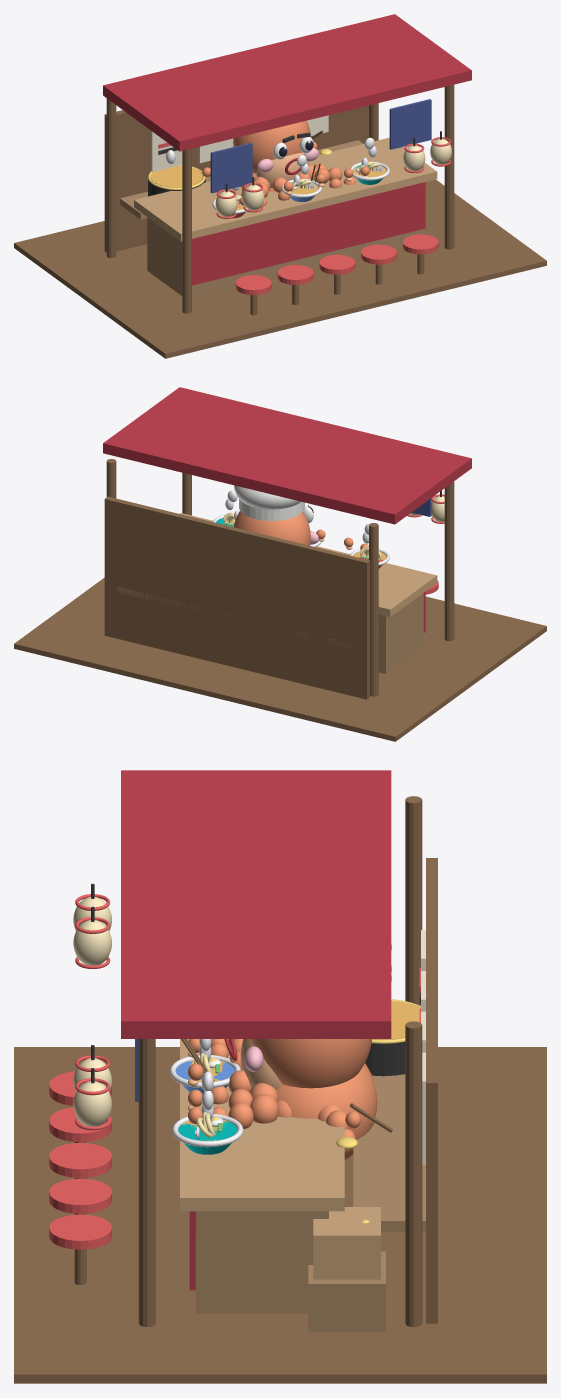
Rendered from octopus_ramen_booth.glb.
The picture shows the model from 3 angles, top to bottom: view 1: azimuth 30°, elevation 25°; view 2: azimuth 150°, elevation 25°; view 3: azimuth 270°, elevation 25°; orthographic projection. The views are drawn at different scales.
Parts seen in each view (by area): view 1: Pavement, Roof, CounterFrontPanel, CounterTop, BackPanel, CounterBase, Noren_4, Noren_0, Post_-2.2_1.1, Post_-2.2_-1.1, Post_2.2_-1.1, OctoHead (+14 smaller); view 2: BackPanel, Roof, Pavement, CounterBase, CounterTop, Post_-2.2_-1.1, Post_-2.2_1.1, OctoHead, HatTop, HatBand, BackShelf; view 3: Pavement, Roof, CounterTop, CounterBase, BackShelf, BackPanel, Post_2.2_1.1, Post_2.2_-1.1, Crate2, OctoHead, Crate1, Post_-2.2_1.1 (+13 smaller).
Boxes of the visible parts, x1,y1,x2,y2 form: Pavement: (14,179,546,358); Roof: (103,14,471,151); CounterFrontPanel: (192,182,425,285); CounterTop: (134,137,437,241); BackPanel: (104,105,368,252); CounterBase: (147,217,423,296); Noren_4: (389,99,431,149); Noren_0: (210,142,252,193); Post_-2.2_1.1: (106,98,116,258); Post_-2.2_-1.1: (182,148,191,313); Post_2.2_-1.1: (444,84,454,249); OctoHead: (233,120,310,173); BackPanel: (104,496,370,699); Roof: (103,387,471,524); Pavement: (14,577,546,741); CounterBase: (378,593,423,673); CounterTop: (180,513,437,616); Post_-2.2_-1.1: (444,481,454,641); Post_-2.2_1.1: (369,523,378,696); OctoHead: (233,511,310,545); HatTop: (234,485,300,509); HatBand: (239,499,304,520); BackShelf: (116,586,378,650); Pavement: (14,1047,546,1383); Roof: (121,770,391,1038); CounterTop: (180,1039,344,1211); CounterBase: (195,1211,328,1313); BackShelf: (353,1074,425,1231); BackPanel: (426,858,437,1323); Post_2.2_1.1: (405,1021,422,1326); Post_2.2_-1.1: (138,1039,155,1326); Crate2: (313,1207,380,1279); OctoHead: (251,1039,372,1088); Crate1: (308,1251,385,1332); Post_-2.2_1.1: (405,796,422,1005).
Size of what is drawn, in the model's own units: 6.4 by 3.01 by 4.4.
